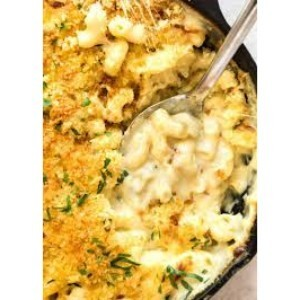cheese_brain food: (94, 126, 211, 270)
